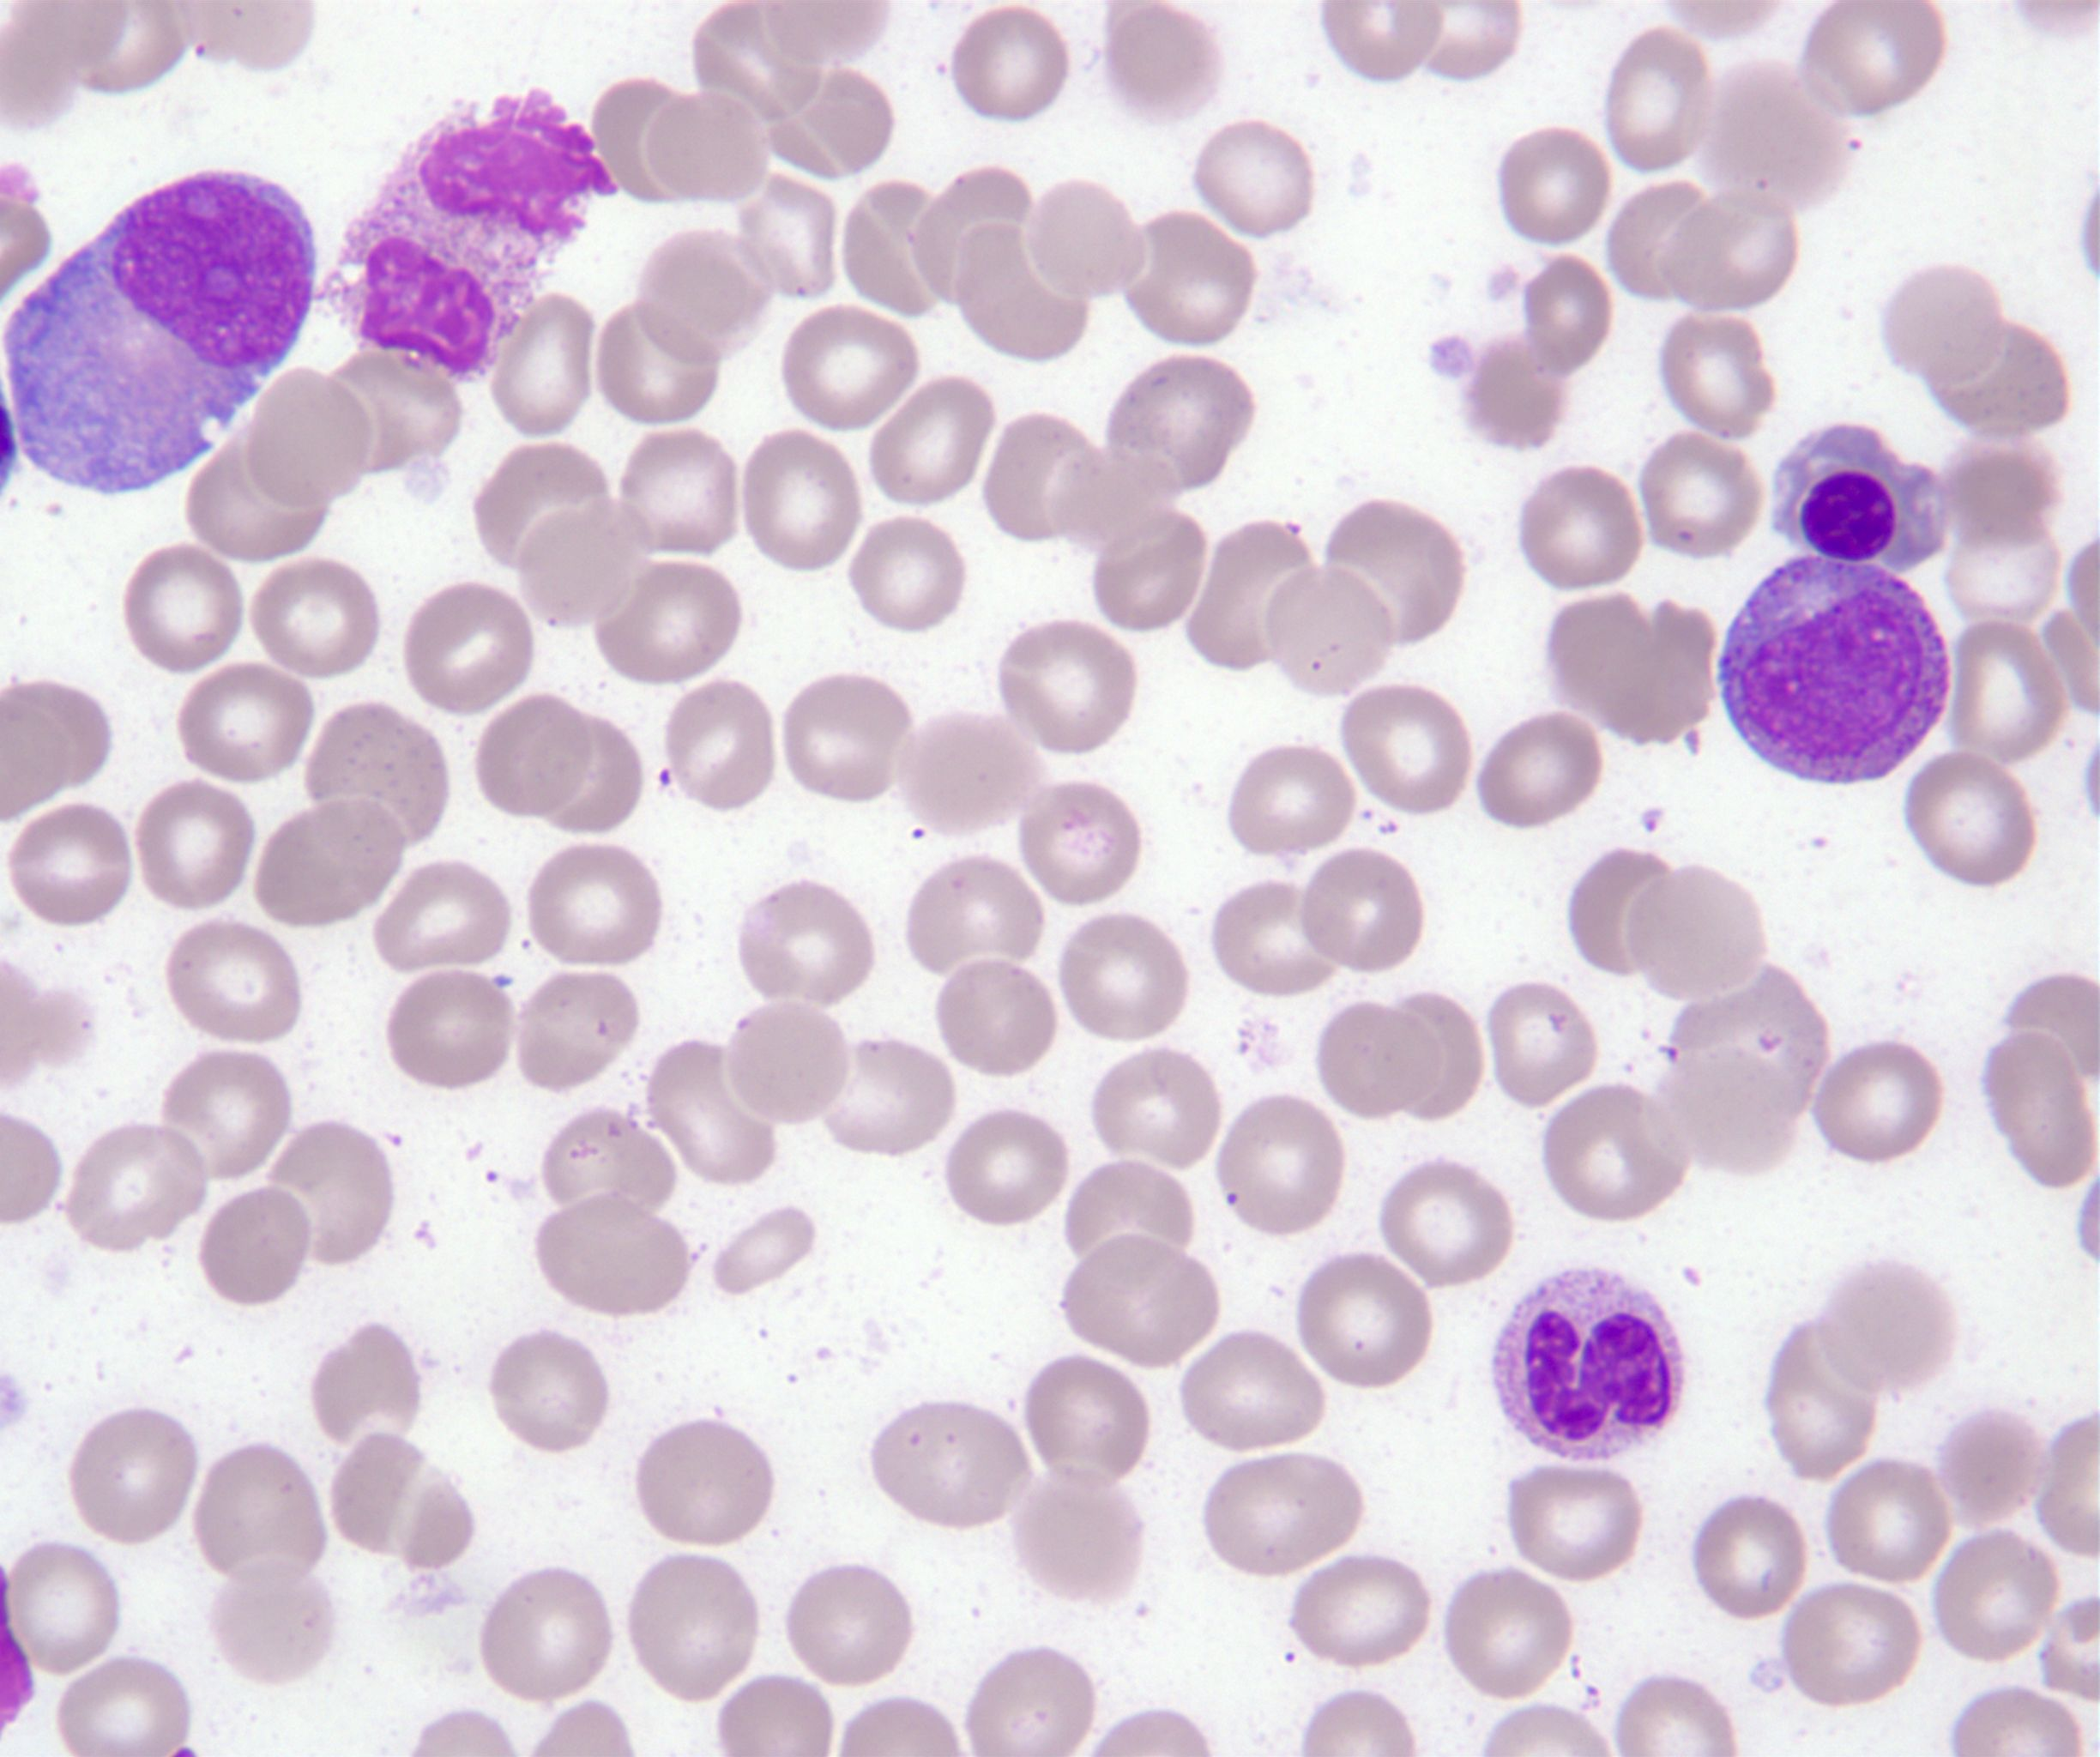2: (2, 173, 317, 490)
24: (1774, 424, 1950, 569)
3: (1722, 557, 1950, 783)
5: (1491, 1270, 1681, 1460)
x: (316, 91, 617, 379)
